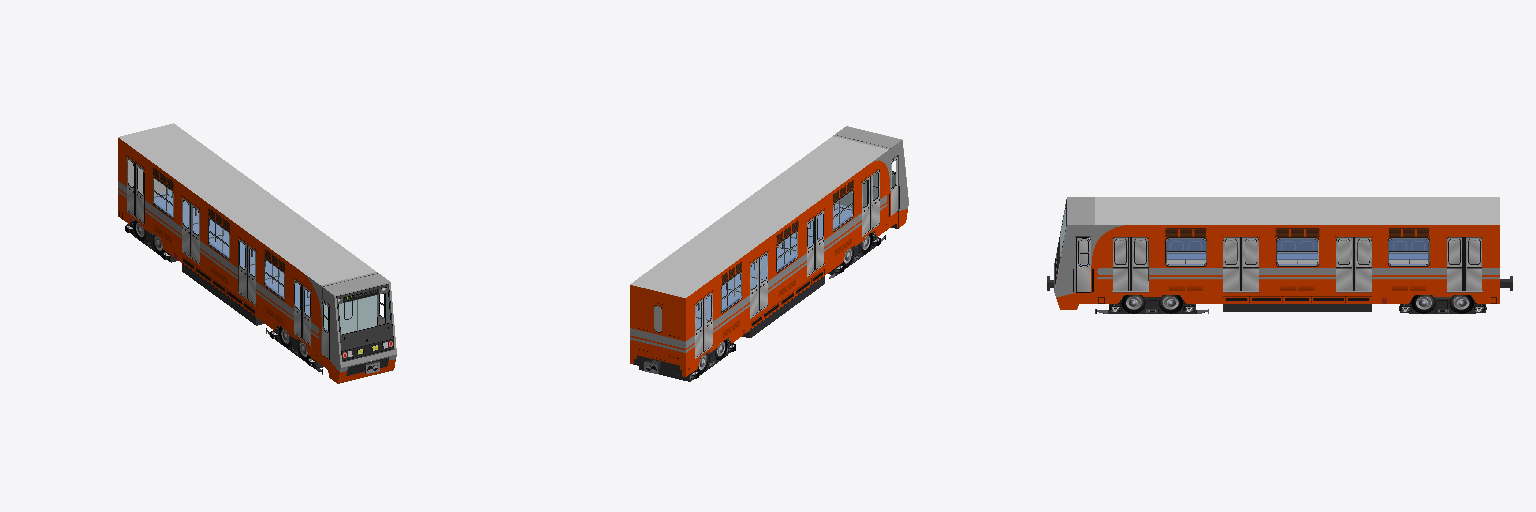
3 views of the same model, side by side, from view 1: azimuth 30°, elevation 25°; view 2: azimuth 150°, elevation 25°; view 3: azimuth 270°, elevation 25° (orthographic).
Parts seen in each view (by area): view 1: body_ext, body_int, bogie, door_LB_ext, door_LF_ext; view 2: body_ext, body_int, bogie, door_LB_ext, door_LF_ext; view 3: body_ext, body_int, bogie, door_RB_ext, door_RF_ext, door_LB_int, door_LF_int.
Part boxes in pixels (left/top/right/bottom): body_ext: left=118, top=123, right=396, bottom=383; body_int: left=128, top=160, right=390, bottom=334; bogie: left=125, top=218, right=379, bottom=374; door_LB_ext: left=127, top=157, right=302, bottom=338; door_LF_ext: left=136, top=164, right=310, bottom=344; body_ext: left=630, top=126, right=908, bottom=376; body_int: left=654, top=172, right=895, bottom=351; bogie: left=639, top=231, right=885, bottom=381; door_LB_ext: left=695, top=176, right=870, bottom=357; door_LF_ext: left=704, top=170, right=879, bottom=350; body_ext: left=1054, top=197, right=1499, bottom=311; body_int: left=1060, top=206, right=1427, bottom=290; bogie: left=1047, top=276, right=1512, bottom=313; door_RB_ext: left=1113, top=237, right=1464, bottom=290; door_RF_ext: left=1131, top=237, right=1481, bottom=290; door_LB_int: left=1135, top=239, right=1479, bottom=263; door_LF_int: left=1115, top=239, right=1459, bottom=263.
Size of the model in its own units: 2.34 by 3.38 by 15.75.
32 materials, 28 textured.